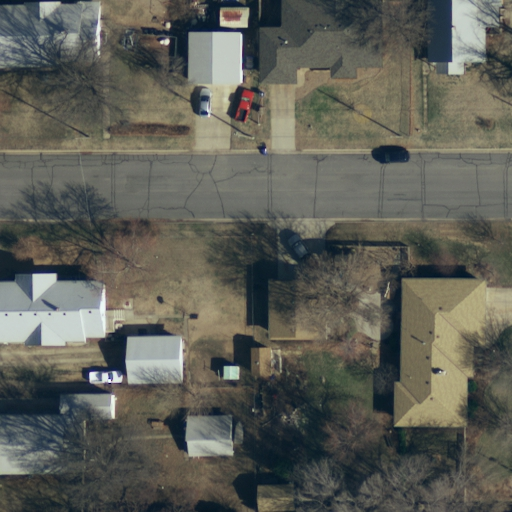DT: (67, 130, 95, 148), (228, 128, 256, 145), (382, 127, 407, 145)
